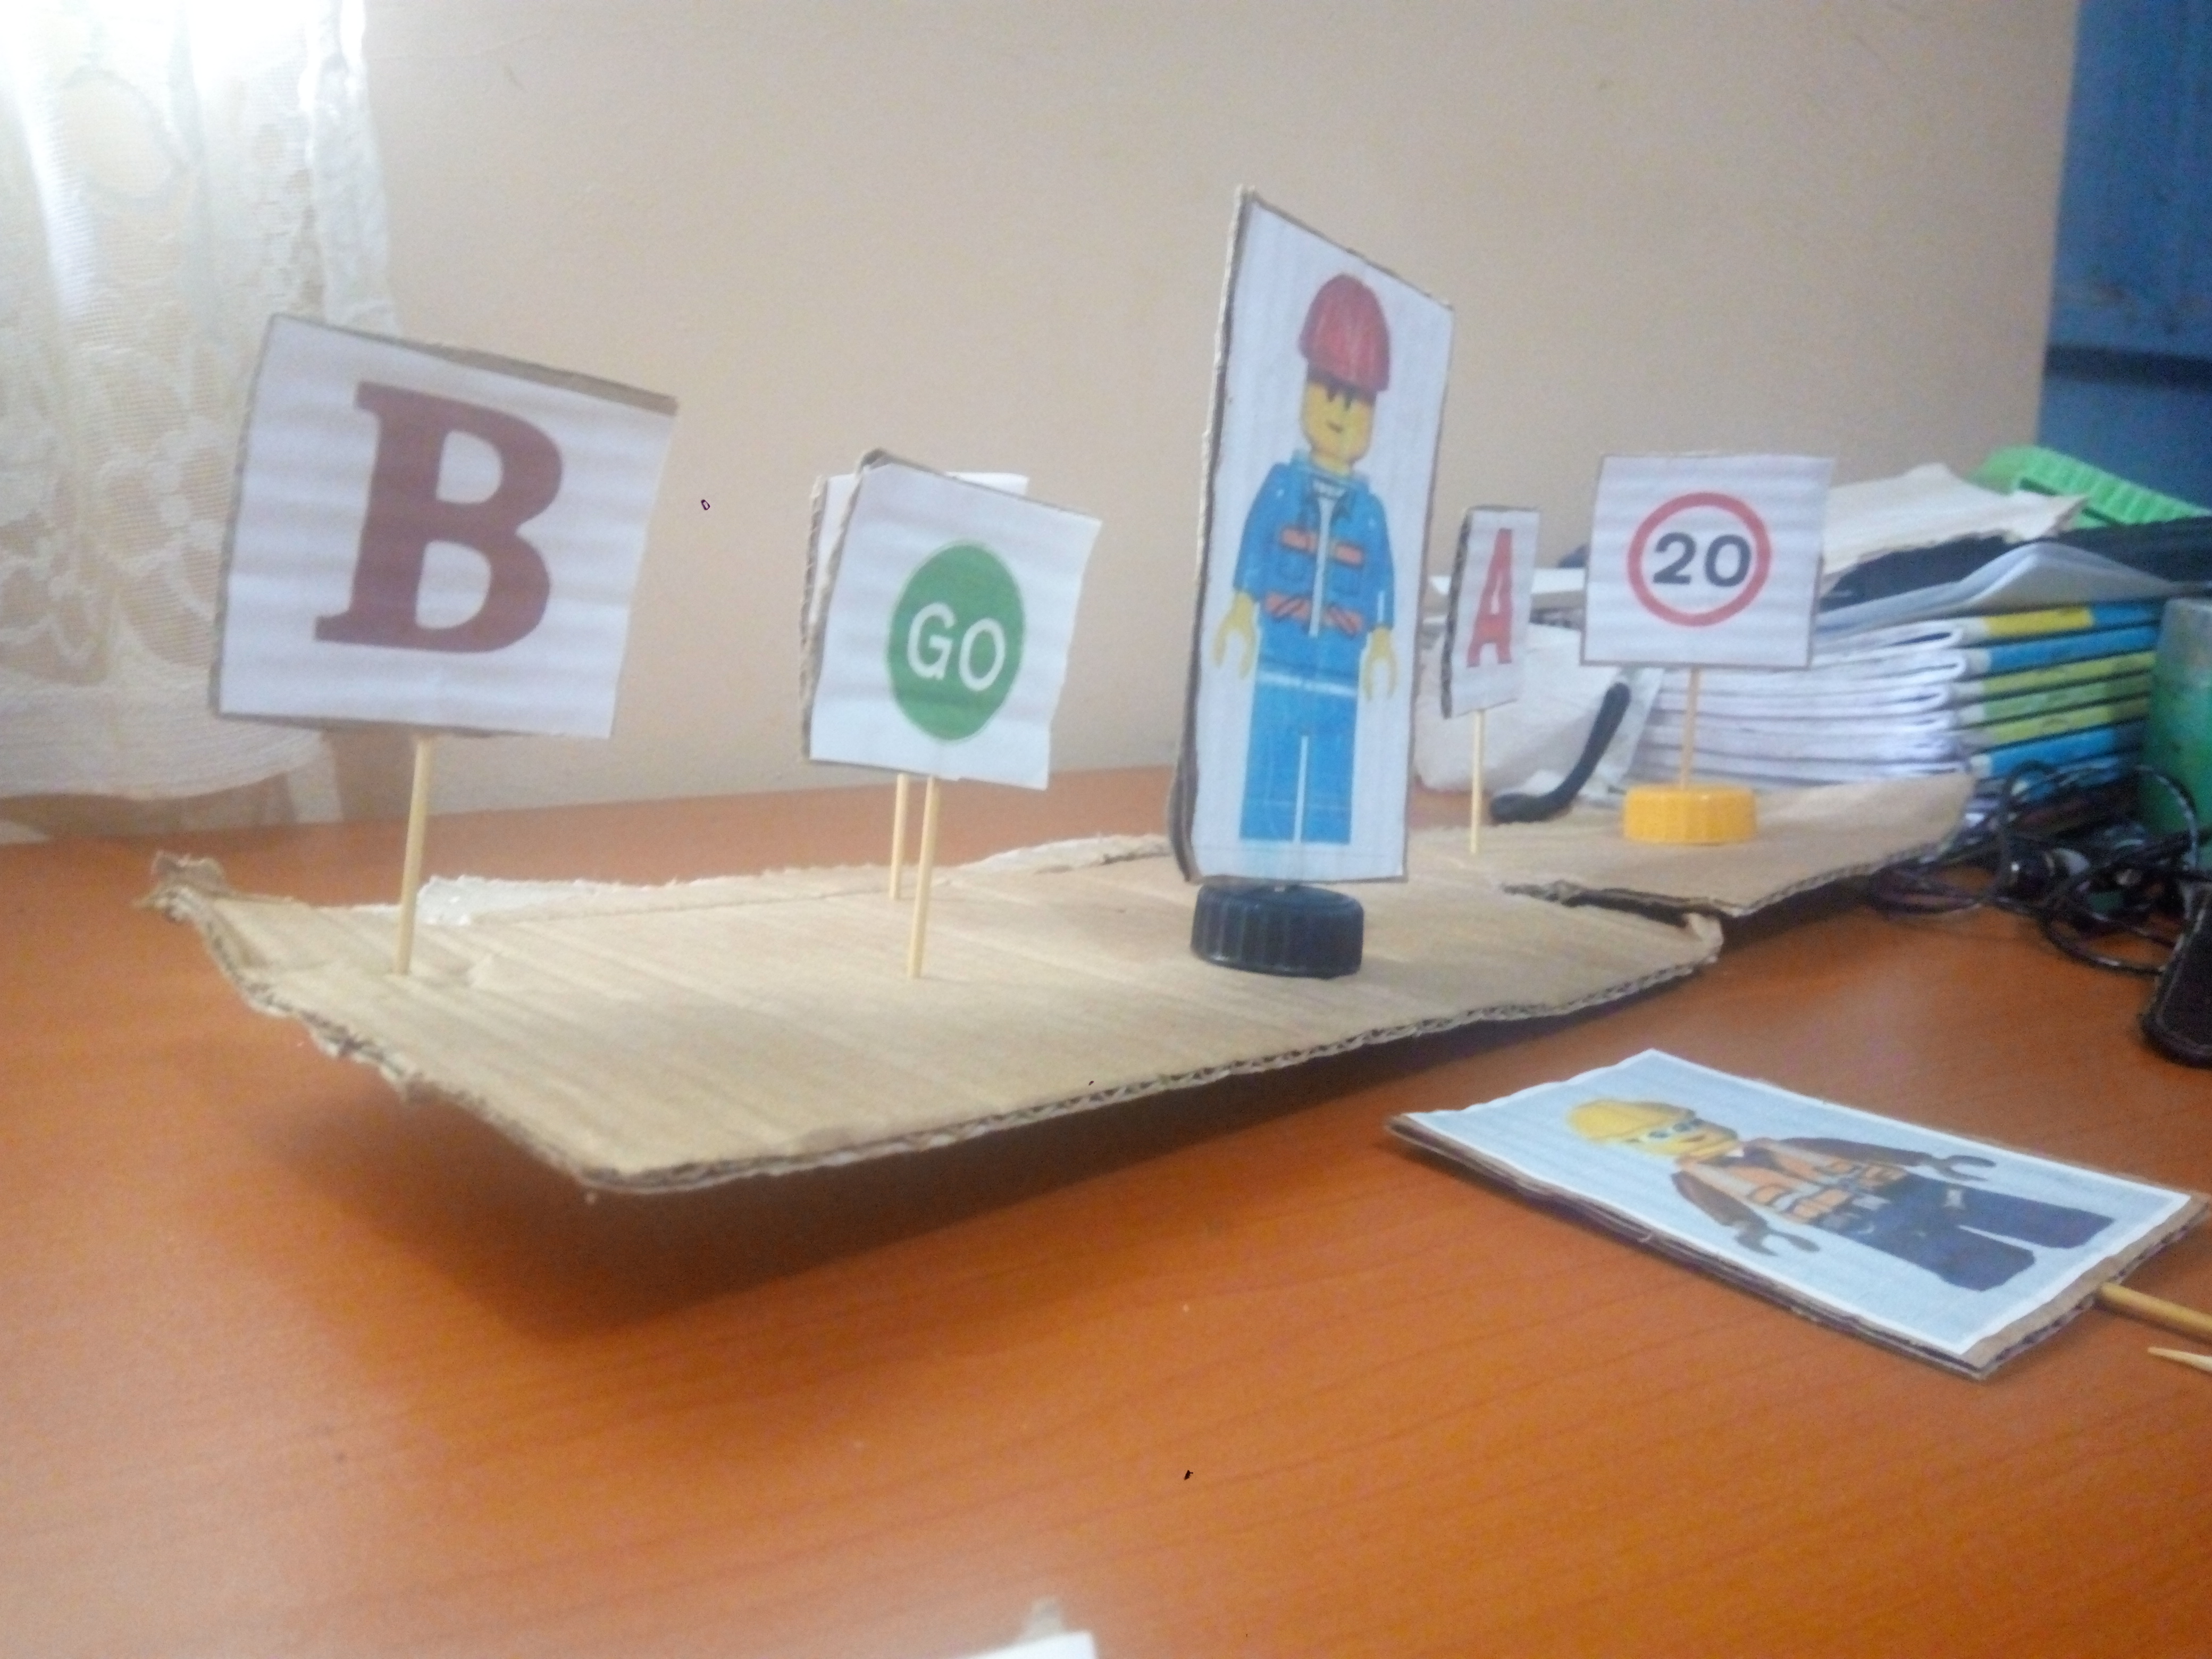20kph: (1603, 463, 1816, 675)
Go: (814, 458, 1072, 803)
pedestrian: (1534, 1095, 2138, 1311), (1226, 213, 1414, 899)
zone A: (1452, 529, 1547, 723)
zone B: (306, 356, 564, 702)
